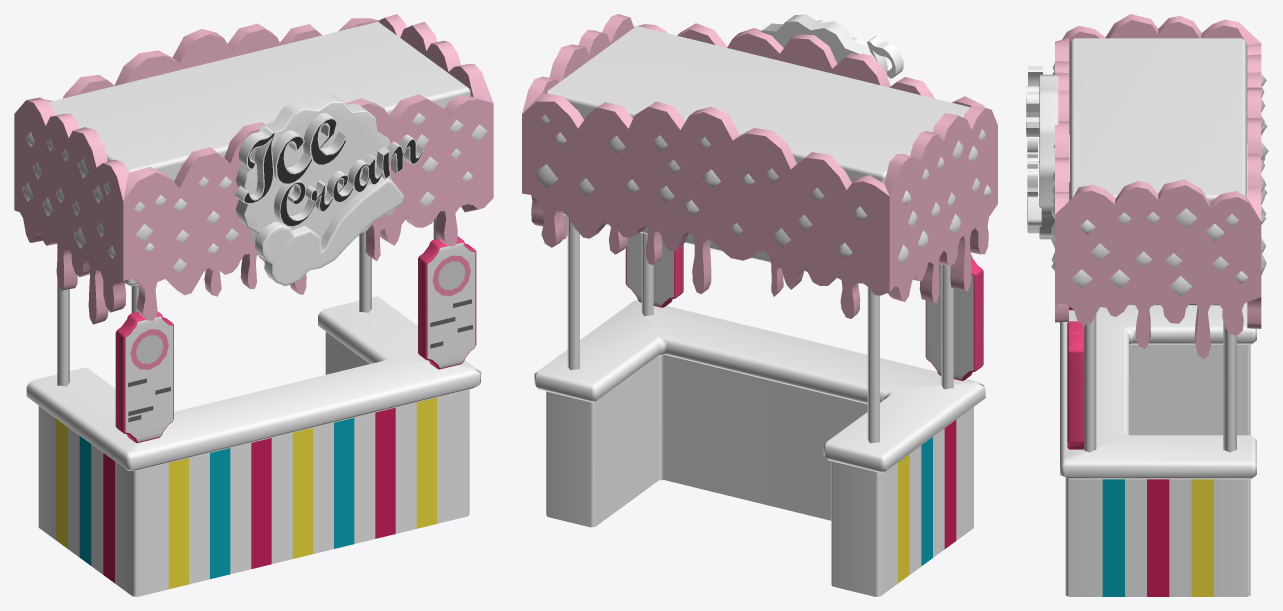
The model's file is stall_002.gltf.
3 views of the same model, side by side, from view 1: azimuth 30°, elevation 25°; view 2: azimuth 150°, elevation 25°; view 3: azimuth 270°, elevation 25° (orthographic). The views are drawn at different scales.
Parts seen in each view (by area): view 1: stall_002; view 2: stall_002; view 3: stall_002.
Part boxes in pixels (left/top/right/bottom): stall_002: left=14, top=14, right=493, bottom=596; stall_002: left=522, top=14, right=997, bottom=596; stall_002: left=1026, top=14, right=1268, bottom=596.
Size of the model in its own units: 3.41 by 3.94 by 1.99.
2 materials, 1 textured.
